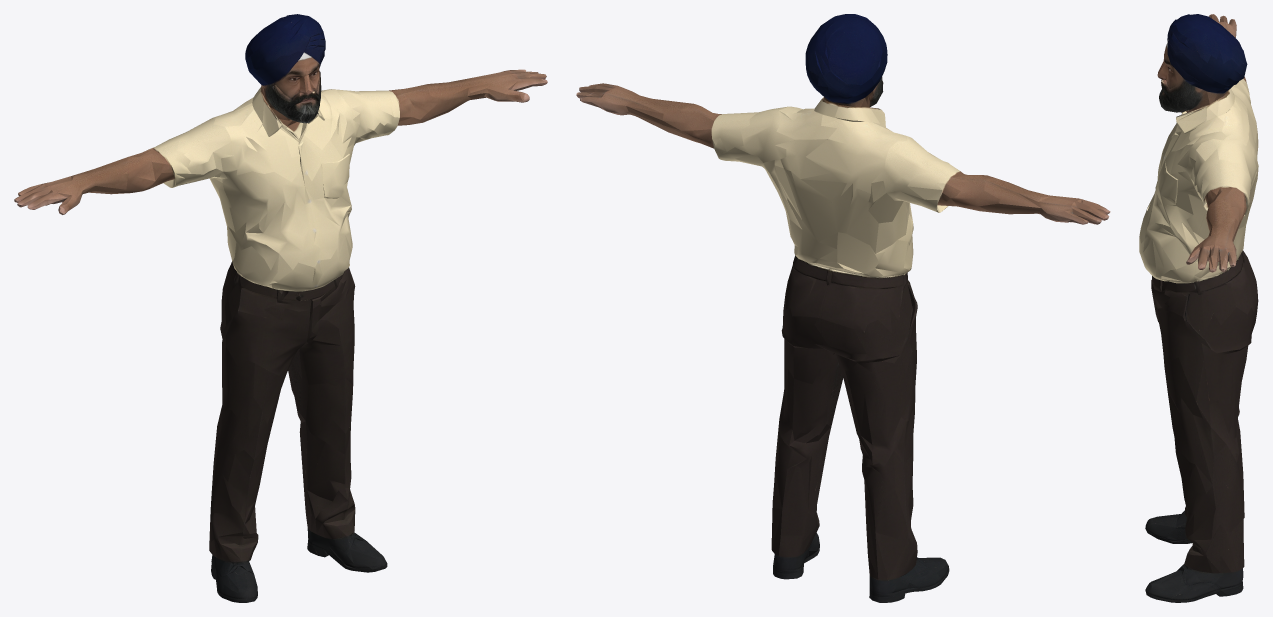
The model's file is image3d.glb.
The picture shows the model from 3 angles, left to right: view 1: azimuth 30°, elevation 25°; view 2: azimuth 150°, elevation 25°; view 3: azimuth 270°, elevation 25°; orthographic projection.
Bounding box in the file's own units: 1.9 × 1.9 × 0.3731.
Materials: 1 (1 with a texture image).
